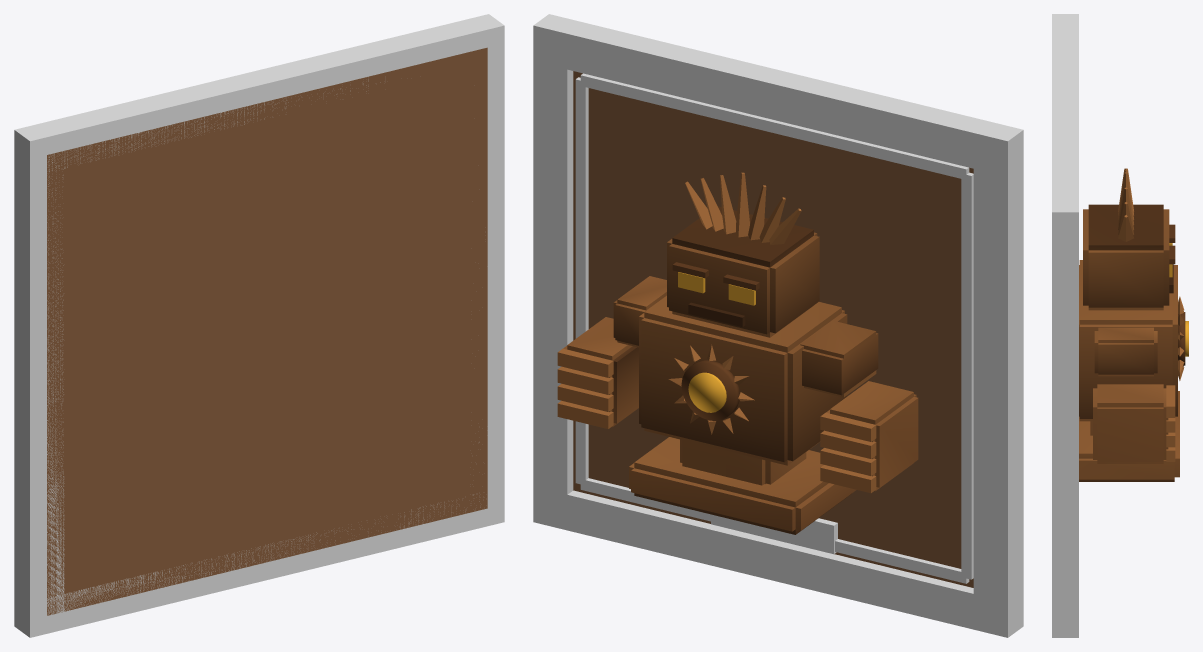
Rendered from golem_trophy_v0.glb.
The picture shows the model from 3 angles, left to right: view 1: azimuth 30°, elevation 25°; view 2: azimuth 150°, elevation 25°; view 3: azimuth 270°, elevation 25°; orthographic projection. The views are drawn at different scales.
Parts seen in each view (by area): view 1: golem_trophy_v0; view 2: golem_trophy_v0; view 3: golem_trophy_v0.
Boxes of the visible parts, left/top/right/bottom form: golem_trophy_v0: left=14, top=14, right=504, bottom=637; golem_trophy_v0: left=533, top=14, right=1023, bottom=637; golem_trophy_v0: left=1052, top=14, right=1188, bottom=637.
Size of the model in its own units: 1.39 by 1.39 by 0.405.
